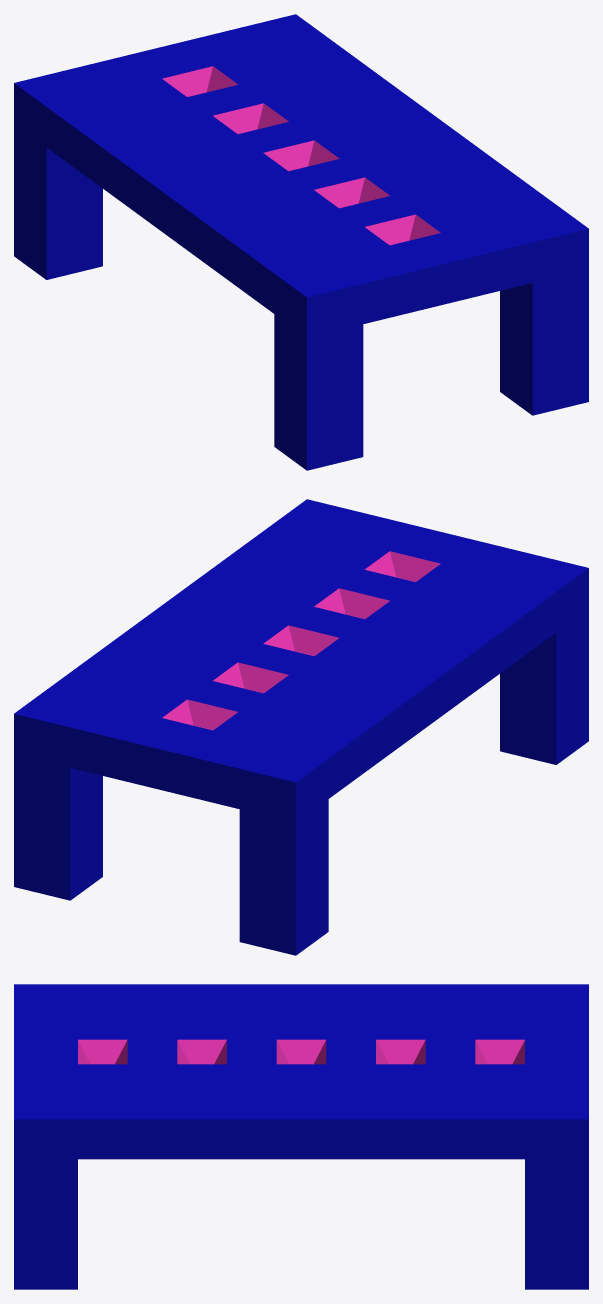
The model's file is ball_holder.fbx.
3 views of the same model, one above another, from view 1: azimuth 30°, elevation 25°; view 2: azimuth 150°, elevation 25°; view 3: azimuth 270°, elevation 25° (orthographic).
Visible parts, largest first — view 1: Cylinder; view 2: Cylinder; view 3: Cylinder.
Part boxes in pixels (left/top/right/bottom): Cylinder: left=14, top=14, right=588, bottom=470; Cylinder: left=14, top=499, right=588, bottom=955; Cylinder: left=14, top=984, right=588, bottom=1289.
Size of the model in its own units: 1.11 by 0.6526 by 2.
